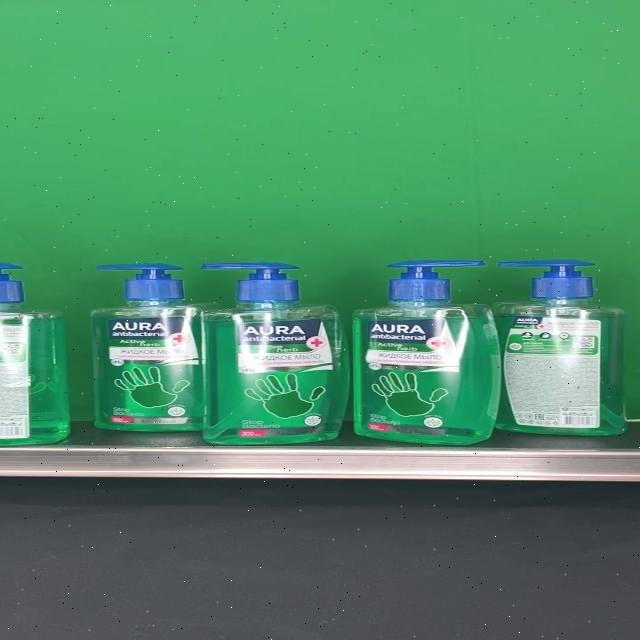Bottle: (352, 259, 502, 445), (200, 262, 350, 444), (489, 259, 628, 436), (89, 264, 220, 430)
Cap: (387, 260, 486, 300), (497, 260, 595, 300), (201, 262, 299, 300), (95, 264, 183, 300)
